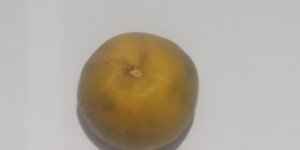BAD: (77, 30, 204, 150)
